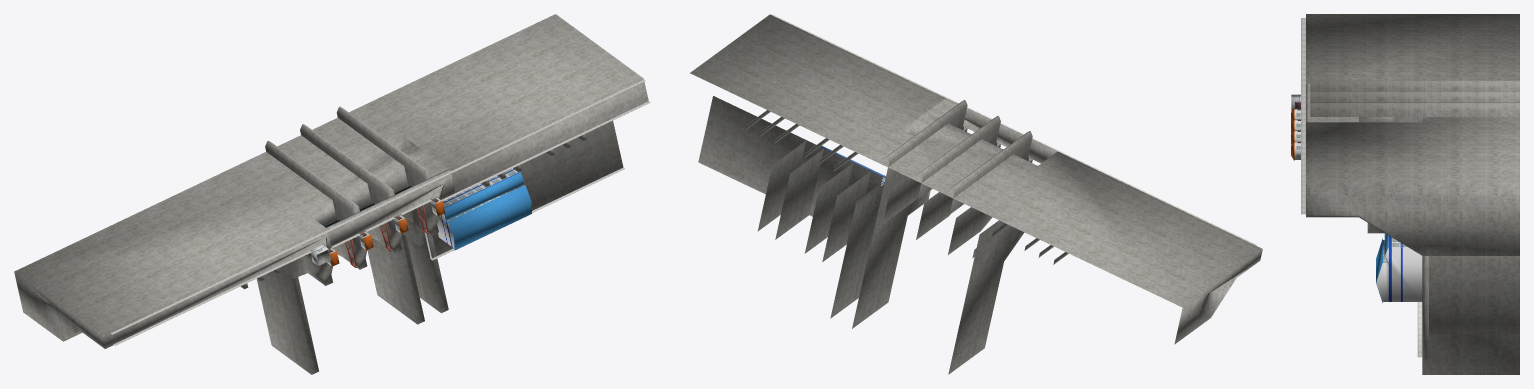
Rendered from SDZ.gltf.
3 views of the same model, side by side, from view 1: azimuth 30°, elevation 25°; view 2: azimuth 150°, elevation 25°; view 3: azimuth 270°, elevation 25° (orthographic). The views are drawn at different scales.
Visible parts, largest first — view 1: SDZ_001~Material__2_materialGroup_0, SDZ_001~Material__65_materialGroup_4, SDZ_001~Material__226_materialGroup_12, SDZ_001~Material__39_materialGroup_1; view 2: SDZ_001~Material__2_materialGroup_0, SDZ_001~Material__226_materialGroup_12; view 3: SDZ_001~Material__2_materialGroup_0, SDZ_001~Material__52_materialGroup_2, SDZ_001~Material__226_materialGroup_12, SDZ_001~Material__146_materialGroup_9, SDZ_001~Material__65_materialGroup_4, SDZ_001~Material__39_materialGroup_1.
Boxes of the visible parts, x1,y1,x2,y2 form: SDZ_001~Material__2_materialGroup_0: (14, 14, 648, 374); SDZ_001~Material__65_materialGroup_4: (444, 172, 531, 250); SDZ_001~Material__226_materialGroup_12: (111, 79, 650, 345); SDZ_001~Material__39_materialGroup_1: (443, 168, 523, 221); SDZ_001~Material__2_materialGroup_0: (690, 14, 1262, 374); SDZ_001~Material__226_materialGroup_12: (771, 14, 1256, 245); SDZ_001~Material__2_materialGroup_0: (1306, 14, 1519, 374); SDZ_001~Material__52_materialGroup_2: (1376, 248, 1422, 301); SDZ_001~Material__226_materialGroup_12: (1301, 18, 1422, 357); SDZ_001~Material__146_materialGroup_9: (1294, 110, 1300, 159); SDZ_001~Material__65_materialGroup_4: (1376, 233, 1388, 302); SDZ_001~Material__39_materialGroup_1: (1383, 235, 1408, 263).
Size of the model in its own units: 213 by 93.93 by 61.21.
14 materials, 14 textured.
